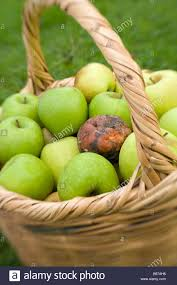apple: (121, 121, 177, 184), (57, 156, 123, 201), (39, 87, 87, 136), (4, 159, 52, 201), (83, 91, 132, 127), (2, 121, 44, 161)
damaged_apple: (74, 116, 129, 158)
